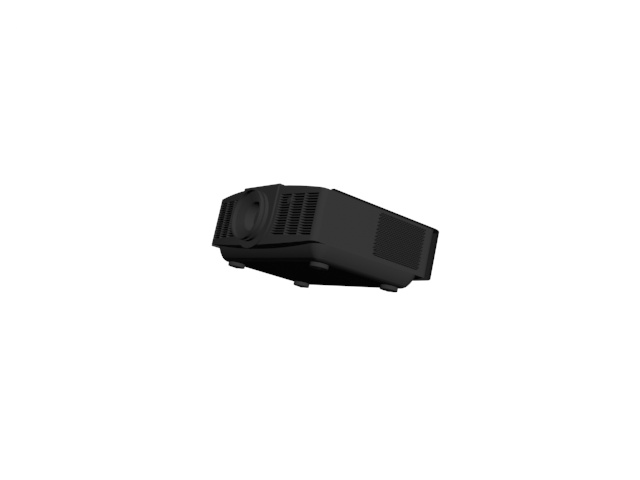projector: (209, 177, 440, 296)
